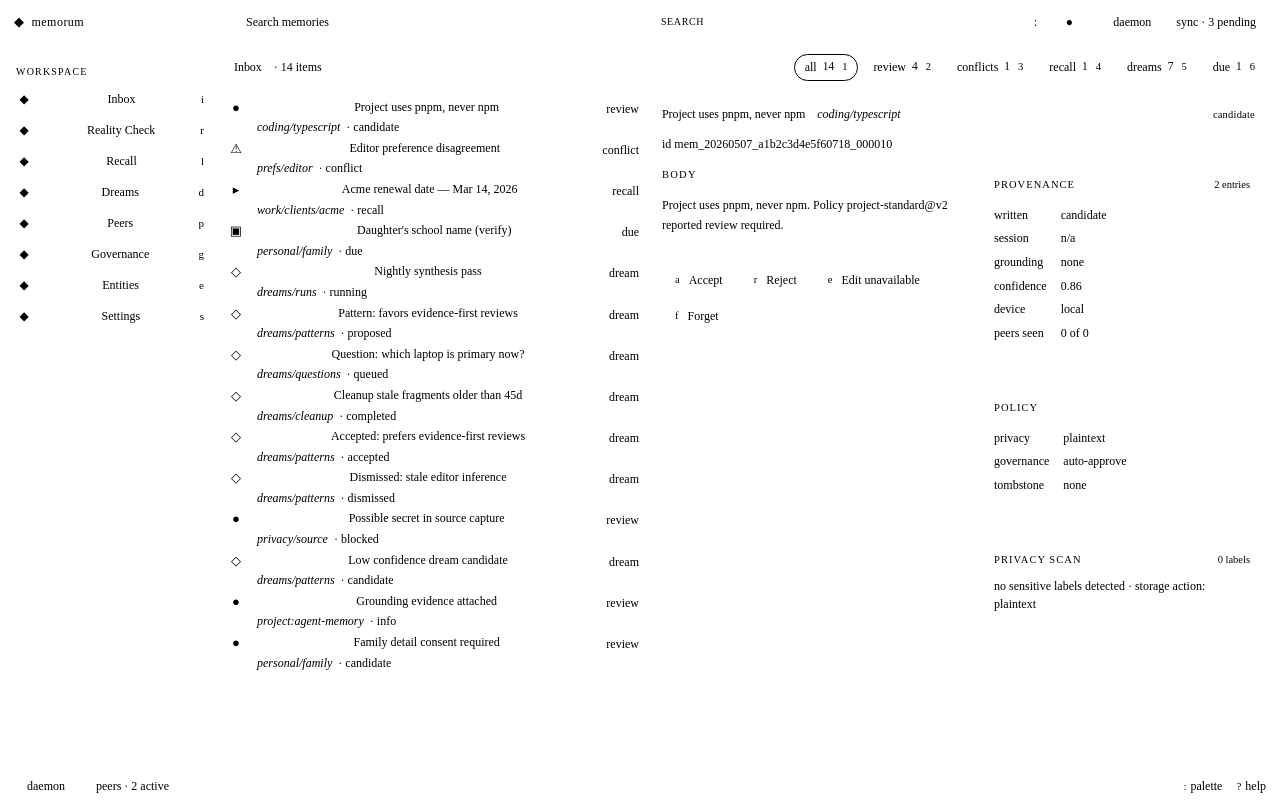
Test: App › renders daemon-shaped notification messages in the bell drawer and toast
Click the button named "Notifications".
click(1069, 22)  # box top-left (1054, 7), bottom-right (1084, 37)
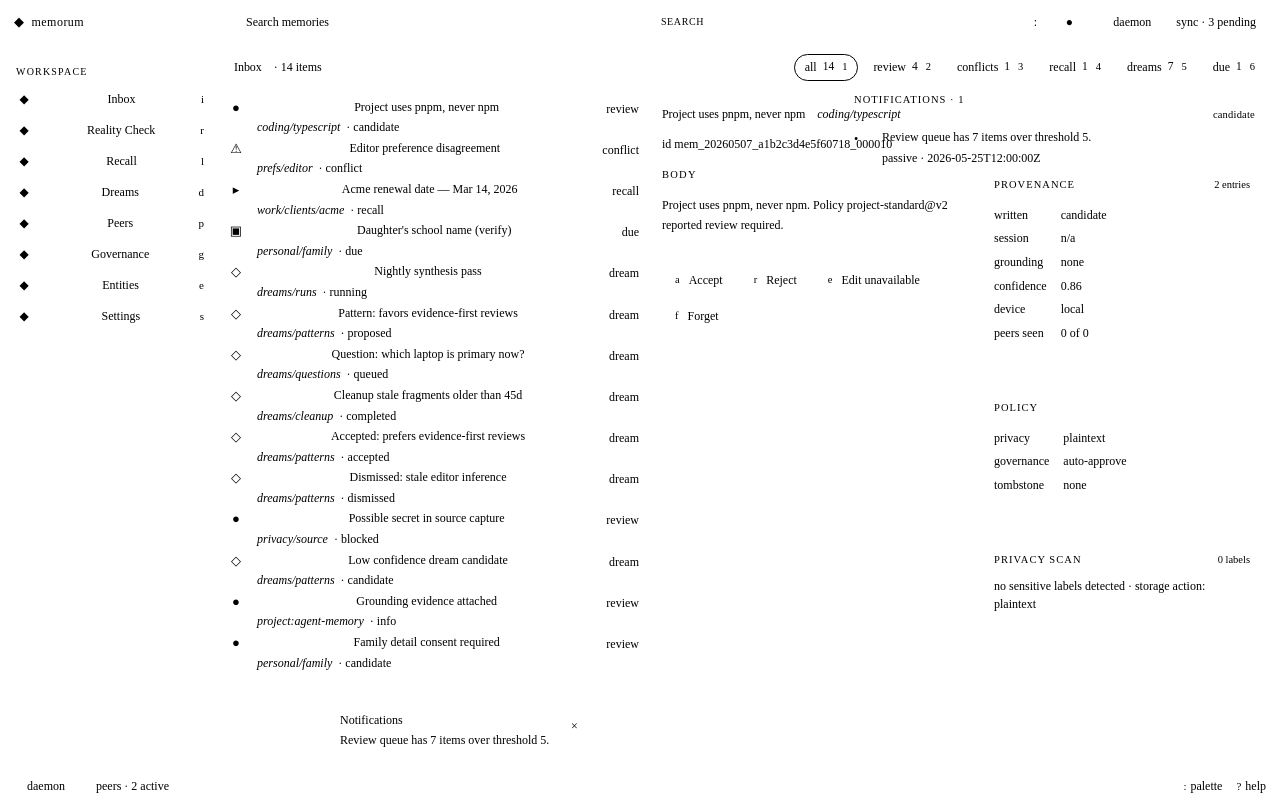
Now the text "Notifications · 1" is shown, box top-left (854, 94), bottom-right (965, 105)
